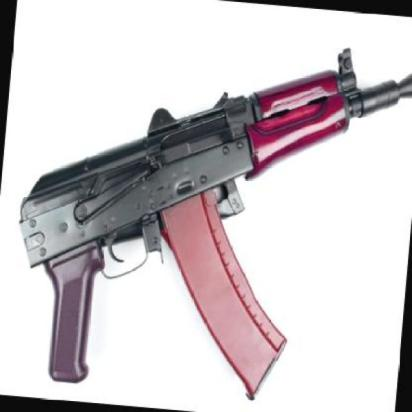Gun: (0, 35, 412, 412)
